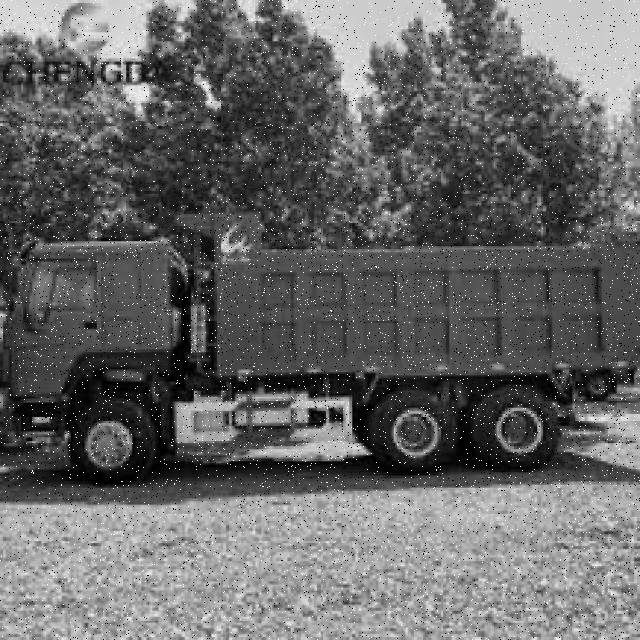Box Truck: (0, 213, 640, 487)
